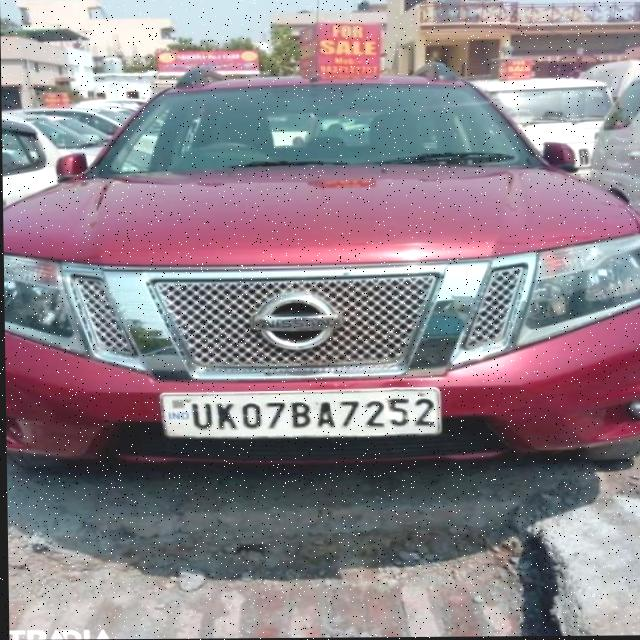plate: (156, 387, 441, 440)
